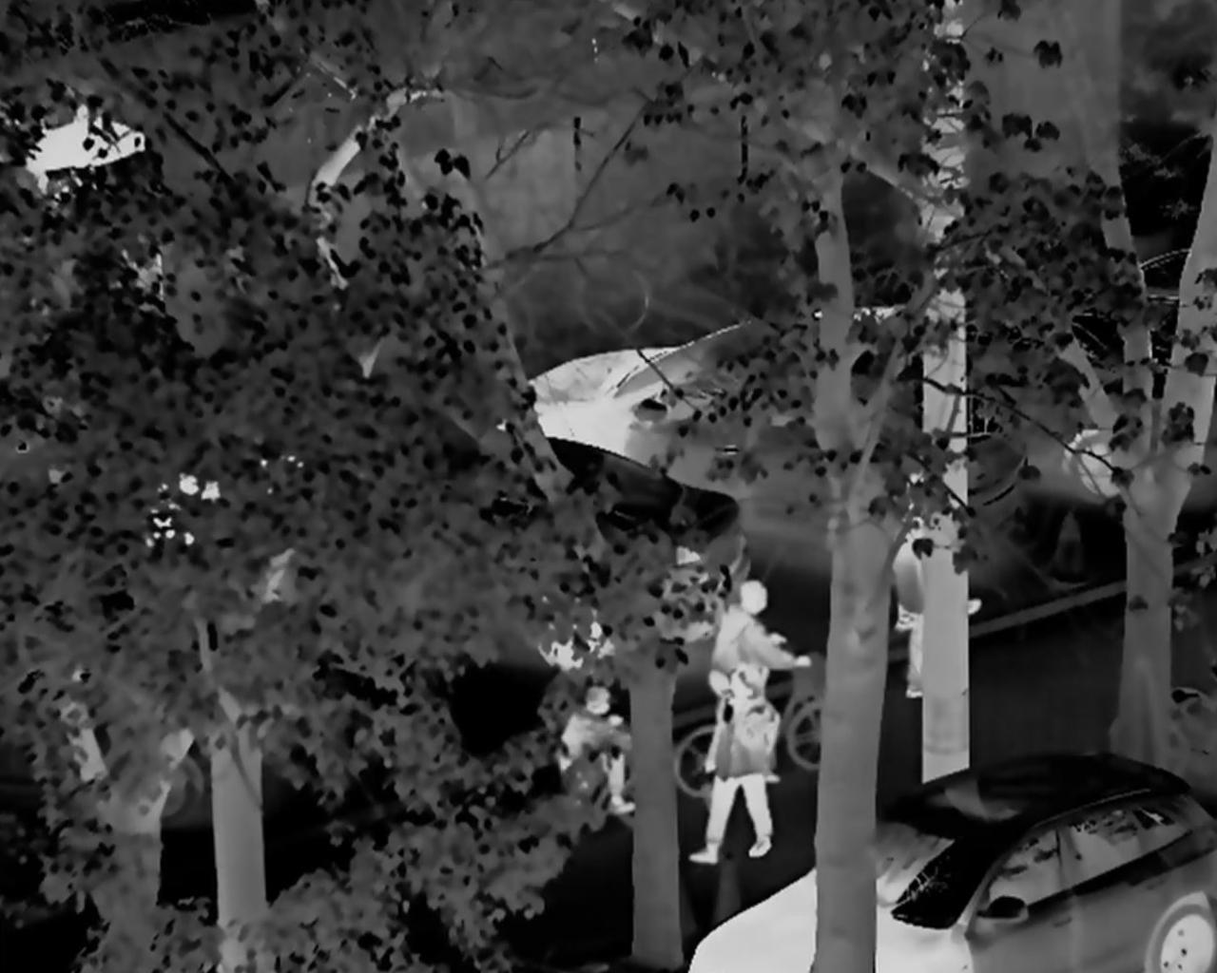person: (897, 480, 981, 709), (703, 665, 782, 866), (712, 570, 813, 714), (559, 672, 643, 825)
